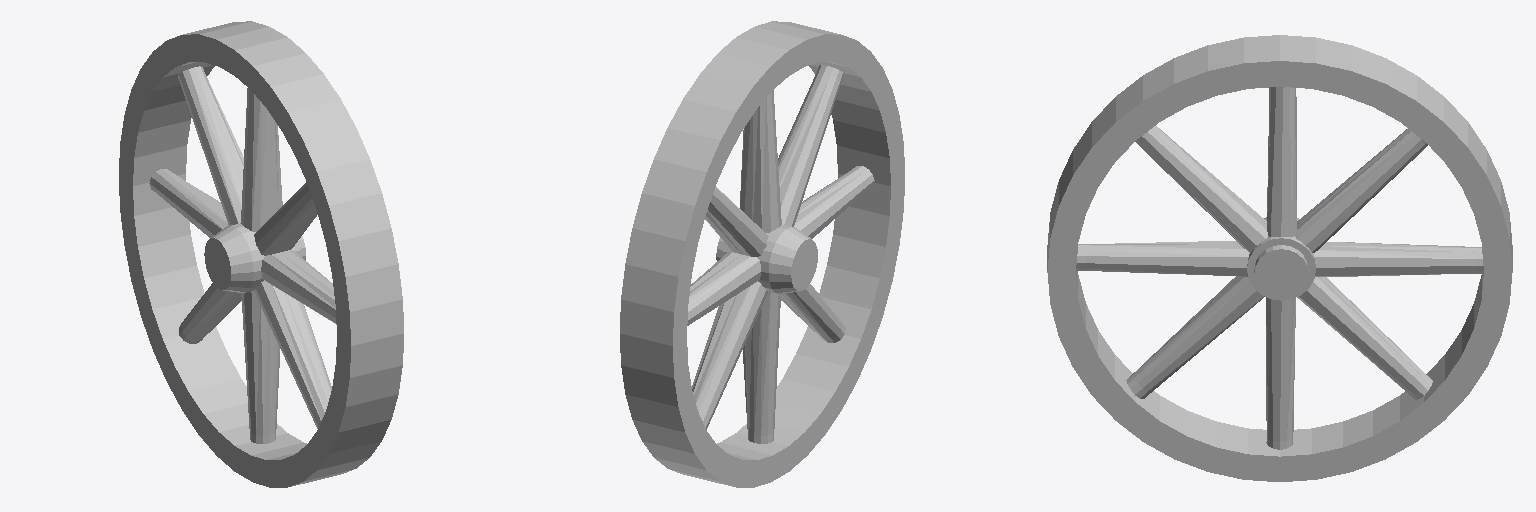
The model's file is wheelHP.obj.
3 renders of one model, left to right at view 1: azimuth 30°, elevation 25°; view 2: azimuth 150°, elevation 25°; view 3: azimuth 270°, elevation 25°, orthographic.
Visible parts, largest first — view 1: default; view 2: default; view 3: default.
Part boxes in pixels (x1,y1,x2,y2): default: (119,21,403,487); default: (620,21,904,487); default: (1047,35,1512,481).
Bounding box in the file's own units: 0.5863 × 3.15 × 3.15.